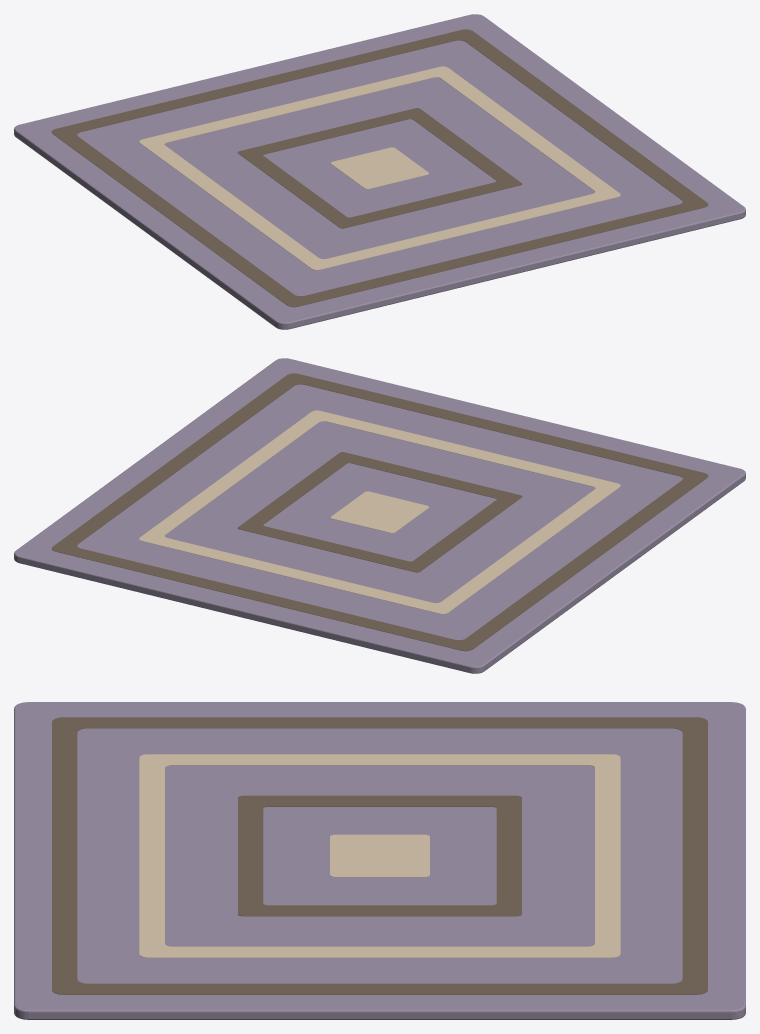
The model's file is squarerug.glb.
3 views of the same model, one above another, from view 1: azimuth 30°, elevation 25°; view 2: azimuth 150°, elevation 25°; view 3: azimuth 270°, elevation 25° (orthographic). The views are drawn at different scales.
Parts seen in each view (by area): view 1: closed-textile-backing, concentric-square-band-0, concentric-square-band-1, concentric-square-band-2, central-square; view 2: closed-textile-backing, concentric-square-band-0, concentric-square-band-1, concentric-square-band-2, central-square; view 3: closed-textile-backing, concentric-square-band-0, concentric-square-band-1, concentric-square-band-2, central-square.
Boxes of the visible parts, <box> form: closed-textile-backing: <box>14,14,745,329</box>; concentric-square-band-0: <box>51,29,708,307</box>; concentric-square-band-1: <box>139,66,620,270</box>; concentric-square-band-2: <box>237,108,522,228</box>; central-square: <box>331,147,428,189</box>; closed-textile-backing: <box>14,358,745,673</box>; concentric-square-band-0: <box>51,373,708,651</box>; concentric-square-band-1: <box>139,410,620,614</box>; concentric-square-band-2: <box>237,452,522,572</box>; central-square: <box>331,491,428,533</box>; closed-textile-backing: <box>14,702,745,1019</box>; concentric-square-band-0: <box>52,717,707,994</box>; concentric-square-band-1: <box>139,754,620,957</box>; concentric-square-band-2: <box>238,795,521,916</box>; central-square: <box>330,834,429,877</box>.
Size of the model in its own units: 1.97 by 0.0295 by 1.97.
